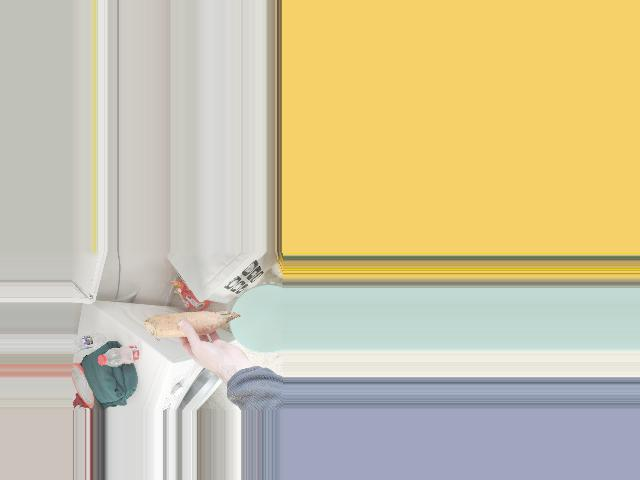sweet_potato: (140, 309, 242, 344)
